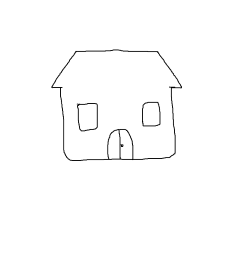door: (105, 126, 138, 159)
open_window: (138, 97, 164, 133), (74, 100, 101, 131)
single_line_roof: (41, 46, 190, 90)
wall: (56, 87, 179, 165)
